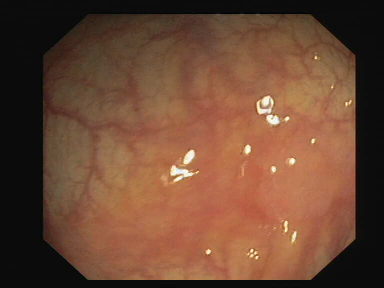polyp: (218, 123, 349, 246)
